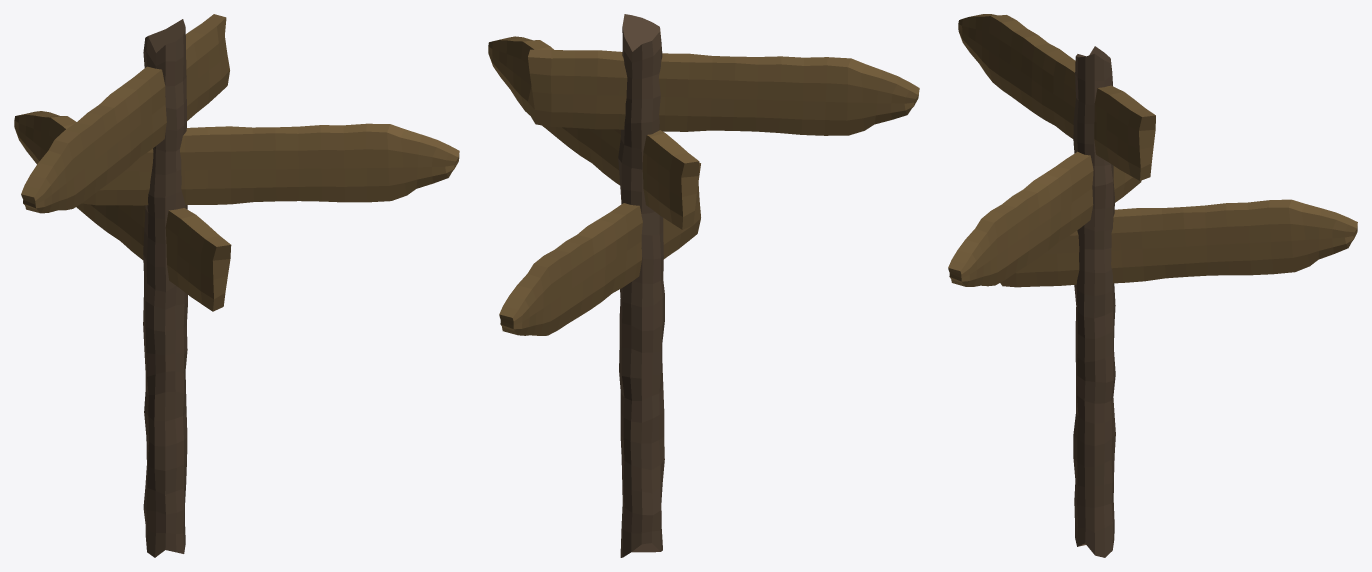
The model's file is Wegschildmit3Richtungen.fbx.
The picture shows the model from 3 angles, left to right: view 1: azimuth 30°, elevation 25°; view 2: azimuth 150°, elevation 25°; view 3: azimuth 270°, elevation 25°; orthographic projection. The views are drawn at different scales.
Visible parts, largest first — view 1: Cube.002, Cylinder, Cube.001, Cube; view 2: Cube.001, Cylinder, Cube, Cube.002; view 3: Cube, Cylinder, Cube.001, Cube.002.
Boxes of the visible parts, box(x1,y1,x2,y2) form: Cube.002: box(82, 123, 459, 205); Cylinder: box(143, 19, 187, 557); Cube.001: box(21, 14, 229, 213); Cube: box(14, 111, 231, 311); Cube.001: box(528, 49, 919, 135); Cylinder: box(618, 14, 664, 557); Cube: box(499, 162, 700, 335); Cube.002: box(488, 36, 699, 229); Cube: box(1000, 199, 1357, 287); Cylinder: box(1073, 46, 1115, 557); Cube.001: box(958, 14, 1155, 180); Cube.002: box(948, 151, 1141, 286).
Bounding box in the file's own units: 25.47 × 30.1 × 22.14.
